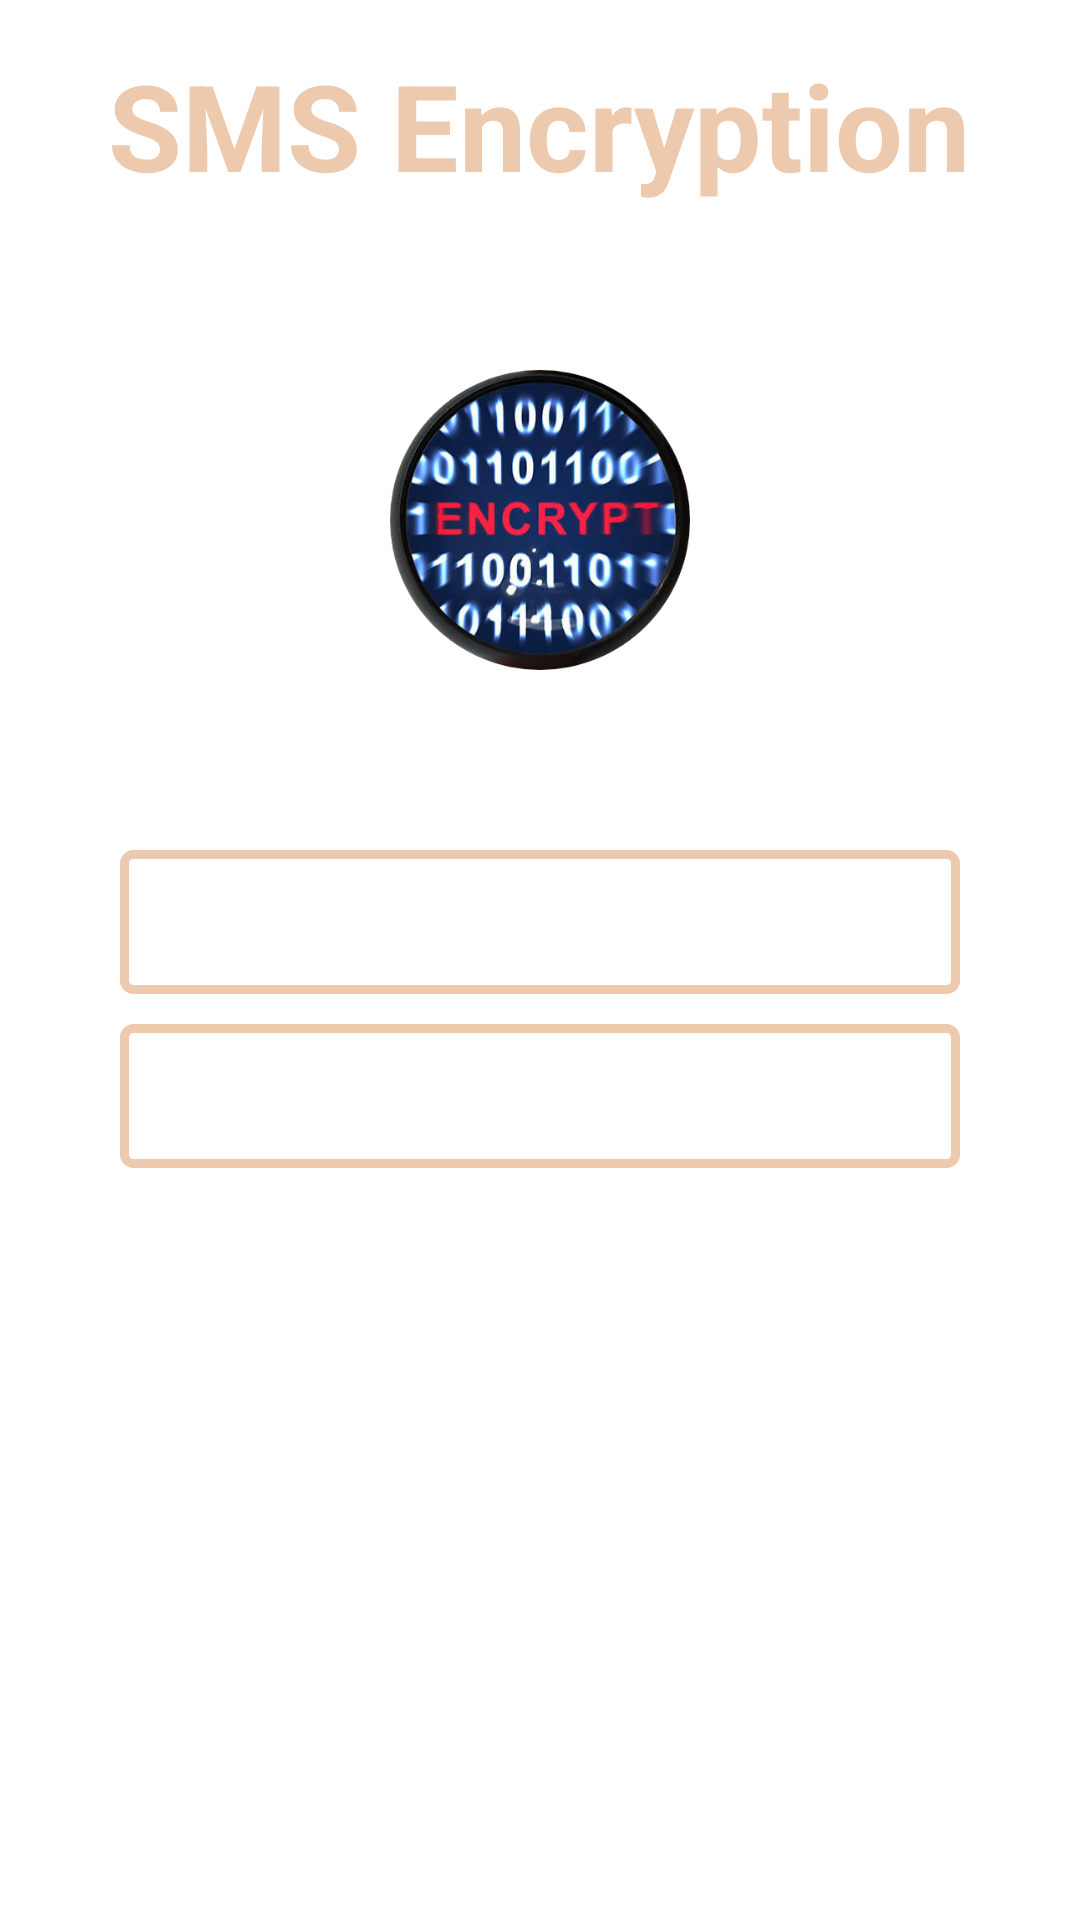

Named icons in this screenshot (1080px x 1920px) and their bounding boxes, (x1, y1, x2, y2):
circle cropped: (390, 370, 690, 670)
